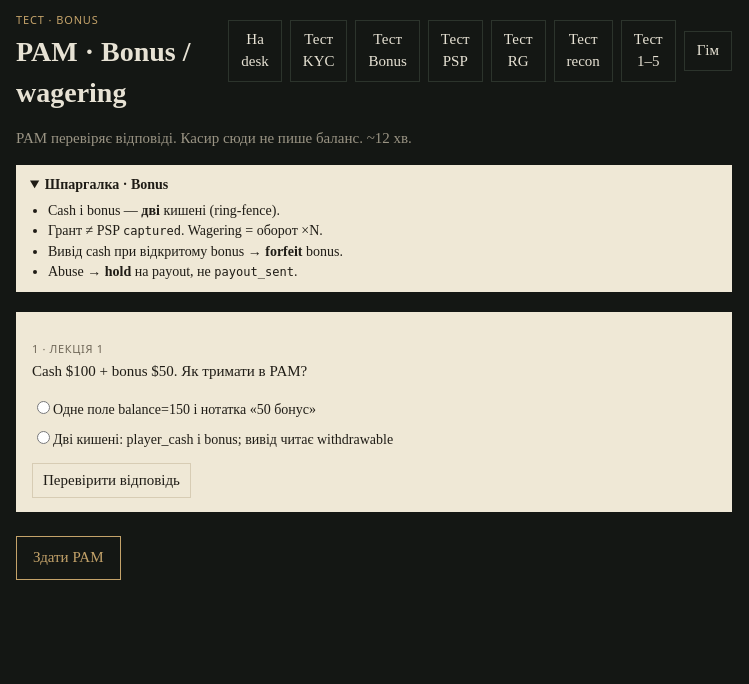
Test: bonus exam submits to PAM grade
Expected: the text "Cash $100 + bonus $50. Як тримати в PAM?" is shown, [32,363,307,379]
Click the radio button labelled "Дві кишені: player_cash і bonus; вивід читає withdrawable" at {"x": 44, "y": 438}, box [37,431,50,444]
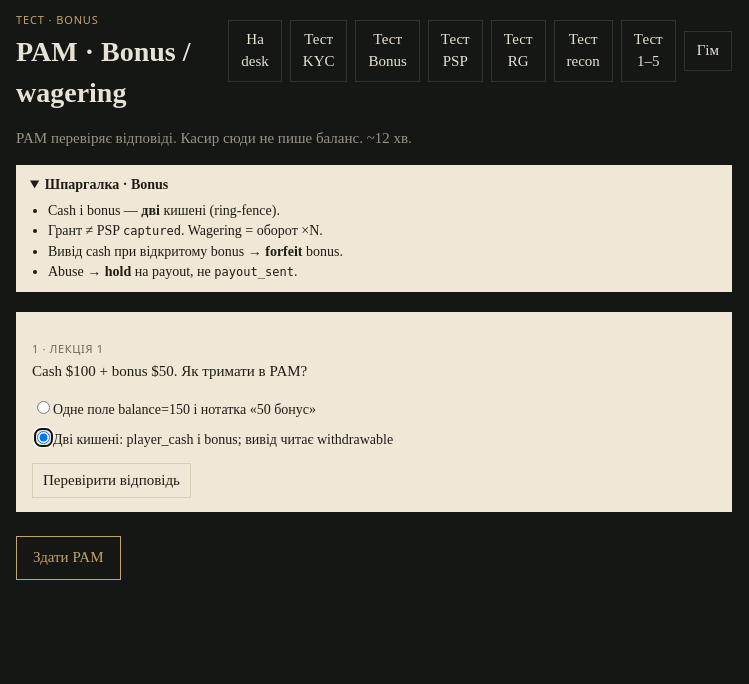
Click the button with test id "exam-submit" at {"x": 68, "y": 558}, box [16,536,120,580]
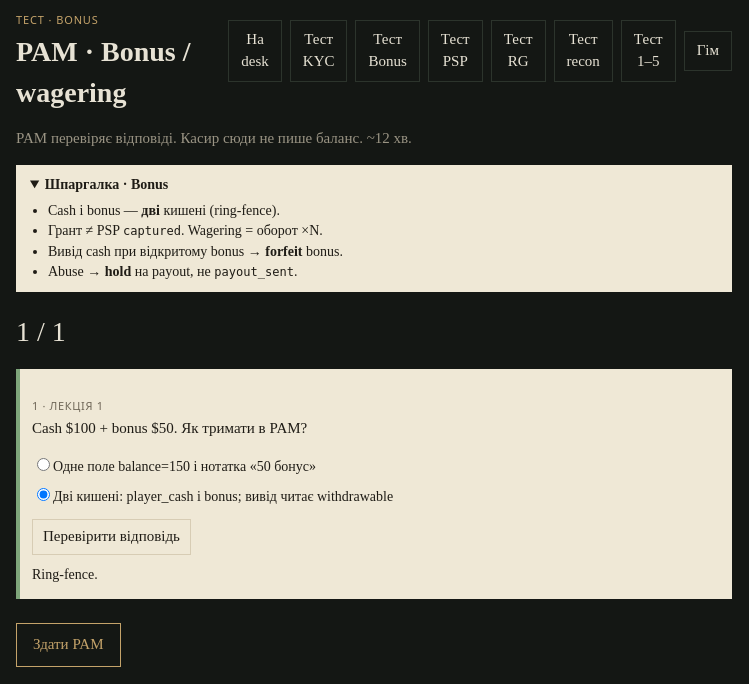
Expected: the text with test id "exam-score" reads "1 / 1", [16,316,66,347]
